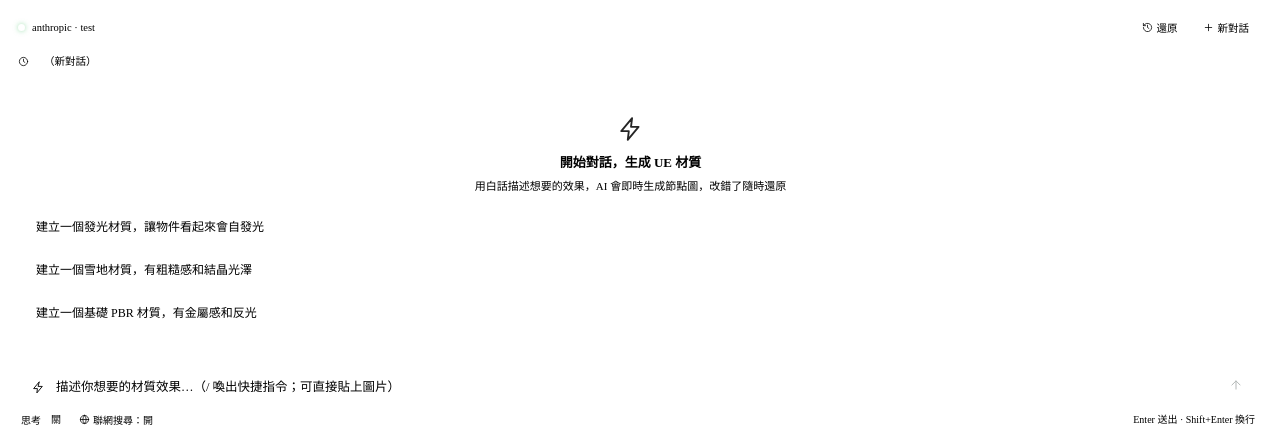
Test: AgentChat M4 › undo button click on nothing-to-undo shows 「沒有可還原的步驟」notice
Click the button "還原" at (1160, 28), box [1132,16,1186,39]
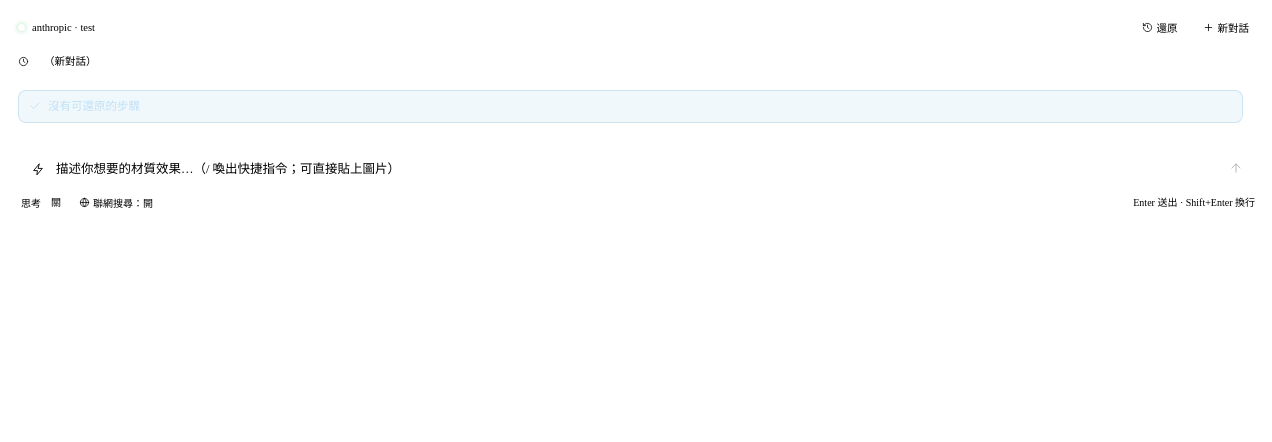
Expected: the text "沒有可還原的步驟" is shown, [48,98,140,115]
